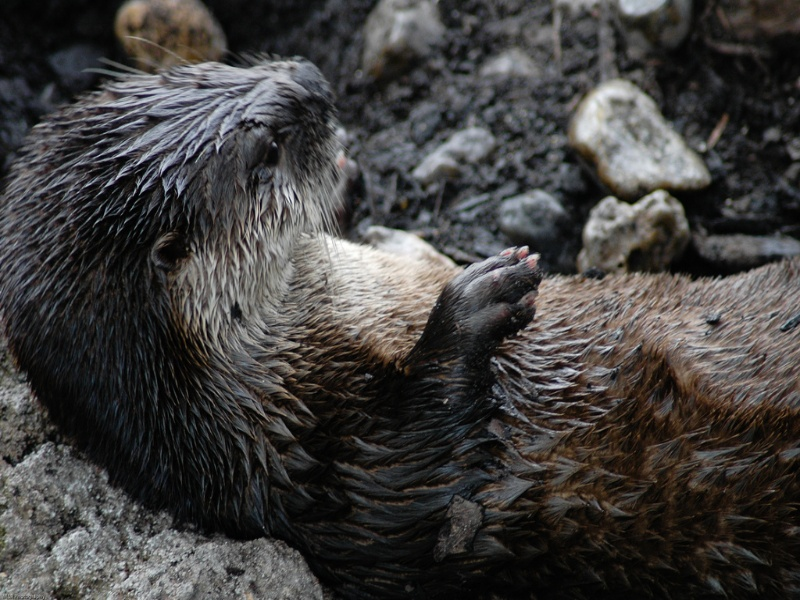minkish: (11, 45, 800, 576)
